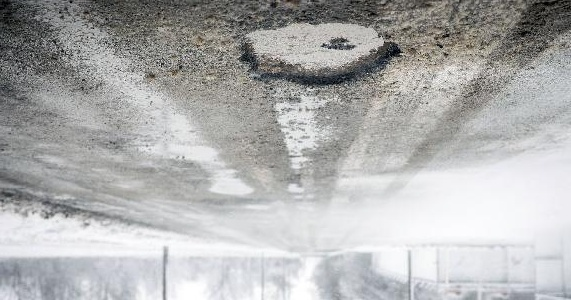pothole: (234, 20, 406, 92)
